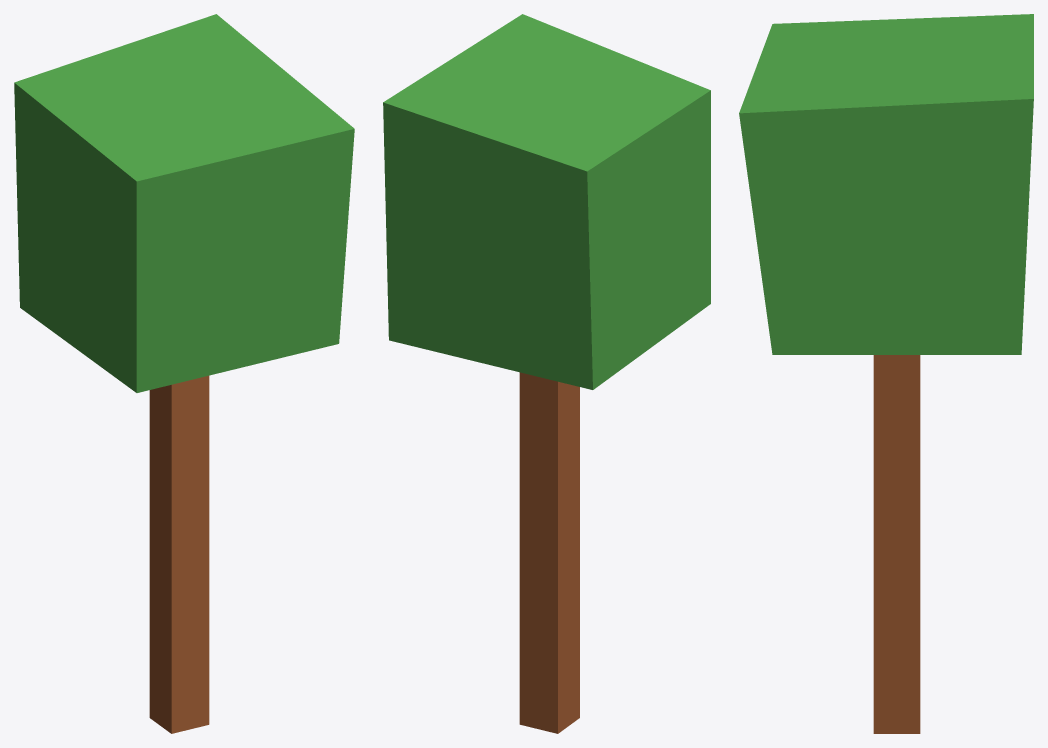
The model's file is tree 1.fbx.
The picture shows the model from 3 angles, left to right: view 1: azimuth 30°, elevation 25°; view 2: azimuth 150°, elevation 25°; view 3: azimuth 270°, elevation 25°; orthographic projection. The views are drawn at different scales.
Visible parts, largest first — view 1: Cube; view 2: Cube; view 3: Cube.
Part boxes in pixels (x1,y1,x2,y2): Cube: (14, 14, 354, 733); Cube: (383, 14, 710, 733); Cube: (739, 14, 1033, 733).
Bounding box in the file's own units: 160 × 480 × 189.
